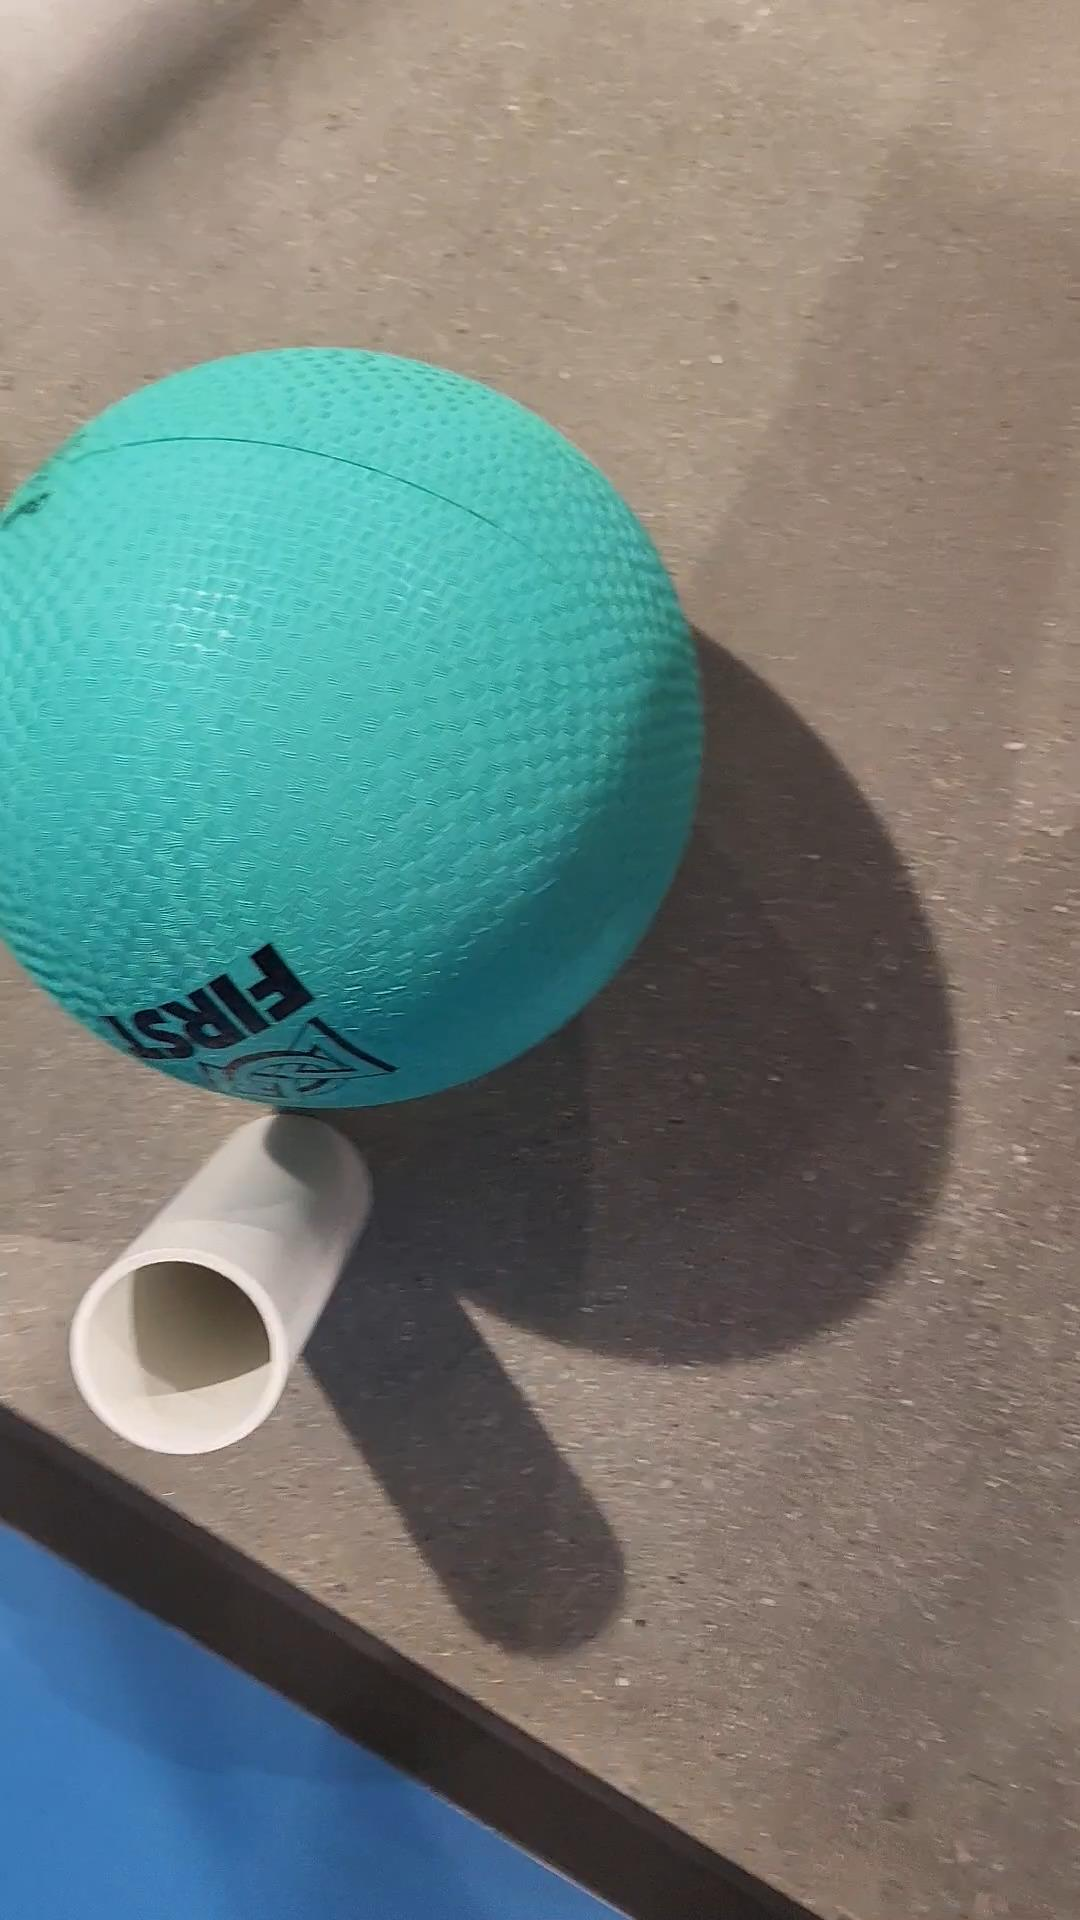algae: (0, 345, 700, 1110)
coral: (73, 1113, 368, 1451)
